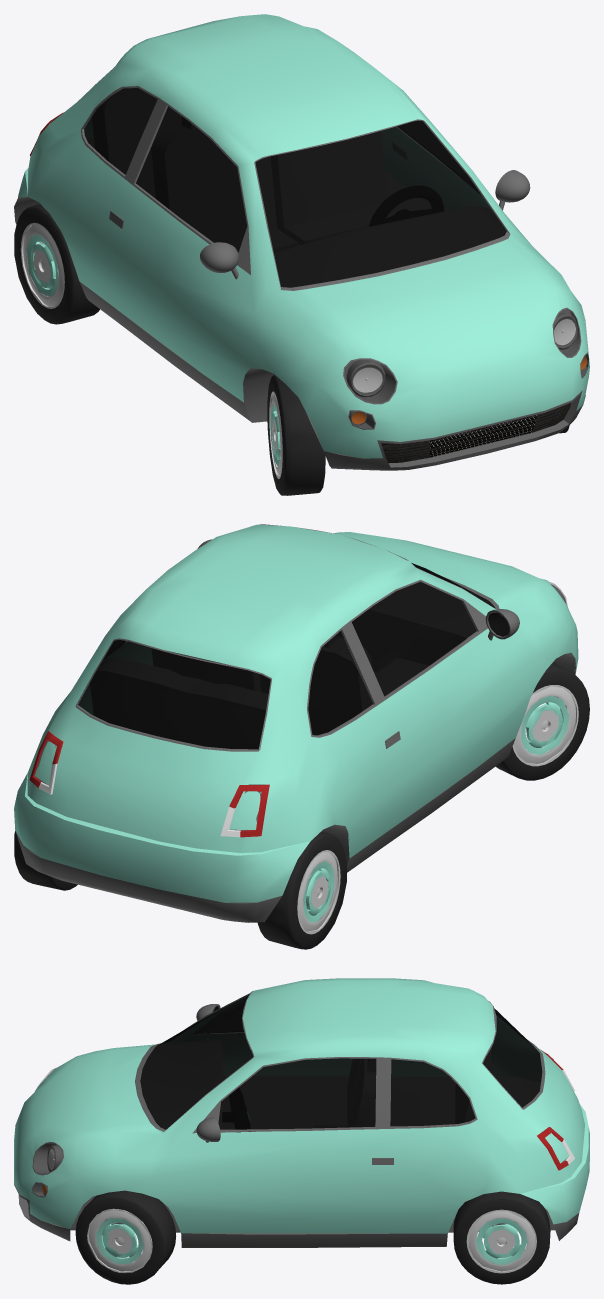
File: car_retro.glb
3 views of the same model, one above another, from view 1: azimuth 30°, elevation 25°; view 2: azimuth 150°, elevation 25°; view 3: azimuth 270°, elevation 25° (orthographic). The views are drawn at different scales.
Parts seen in each view (by area): view 1: CarBody_CarPaint_0, CarBody_Plastic_0, CarBody_Glass_0, Wheel_Rubber_0, CarBody_Grill_0, CarBody_LightGlass_0, Wheel_Rim_0, SteeringWheel_Plastic.001_0, CarBody_LightW_0; view 2: CarBody_CarPaint_0, CarBody_Plastic_0, CarBody_Glass_0, Wheel_Rubber_0, Wheel_Rim_0, CarBody_LightR_0, CarBody_LightW_0; view 3: CarBody_CarPaint_0, CarBody_Plastic_0, CarBody_Glass_0, Wheel_Rubber_0, Wheel_Rim_0, CarBody_LightGlass_0, SteeringWheel_Plastic.001_0, CarBody_LightR_0.
Boxes of the visible parts, left/top/right/bottom form: CarBody_CarPaint_0: left=18, top=14, right=589, bottom=466; CarBody_Plastic_0: left=14, top=60, right=588, bottom=470; CarBody_Glass_0: left=84, top=88, right=506, bottom=287; Wheel_Rubber_0: left=14, top=204, right=569, bottom=495; CarBody_Grill_0: left=381, top=403, right=570, bottom=463; CarBody_LightGlass_0: left=345, top=309, right=588, bottom=428; Wheel_Rim_0: left=20, top=222, right=282, bottom=479; SteeringWheel_Plastic.001_0: left=370, top=186, right=443, bottom=225; CarBody_LightW_0: left=353, top=319, right=575, bottom=392; CarBody_CarPaint_0: left=14, top=524, right=578, bottom=922; CarBody_Plastic_0: left=15, top=524, right=575, bottom=922; CarBody_Glass_0: left=78, top=563, right=509, bottom=749; Wheel_Rubber_0: left=14, top=662, right=589, bottom=949; Wheel_Rim_0: left=297, top=685, right=578, bottom=934; CarBody_LightR_0: left=29, top=731, right=269, bottom=837; CarBody_LightW_0: left=38, top=764, right=240, bottom=837; CarBody_CarPaint_0: left=14, top=978, right=589, bottom=1264; CarBody_Plastic_0: left=14, top=991, right=579, bottom=1247; CarBody_Glass_0: left=140, top=995, right=542, bottom=1129; Wheel_Rubber_0: left=75, top=1190, right=550, bottom=1284; Wheel_Rim_0: left=87, top=1208, right=536, bottom=1273; CarBody_LightGlass_0: left=33, top=1068, right=62, bottom=1195; SteeringWheel_Plastic.001_0: left=223, top=1088, right=250, bottom=1132; CarBody_LightR_0: left=537, top=1049, right=568, bottom=1170.
Bounding box in the file's own units: 3.94 × 3.27 × 7.62.
11 materials, 1 textured.
